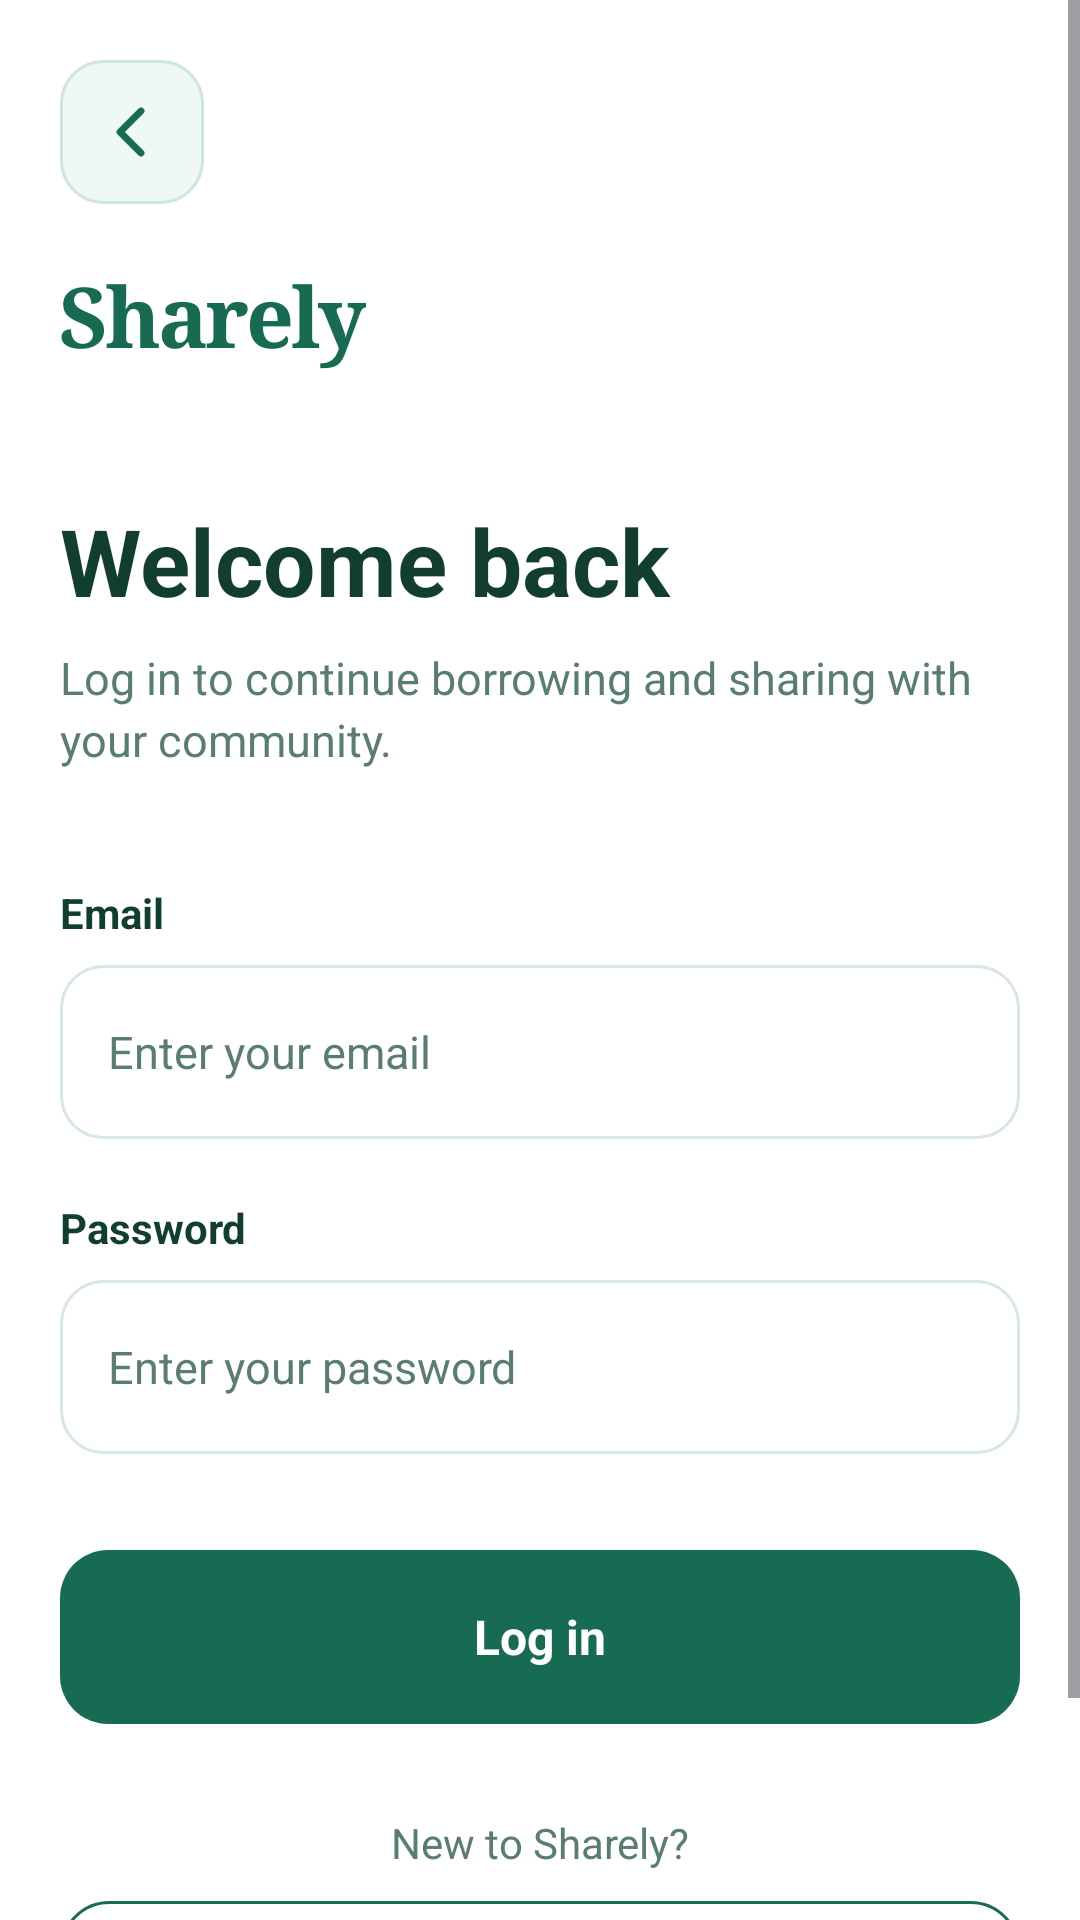

Icon click points for this 1080 x 1920 phone screenshot, format (x,y):
Back: (132,132)
